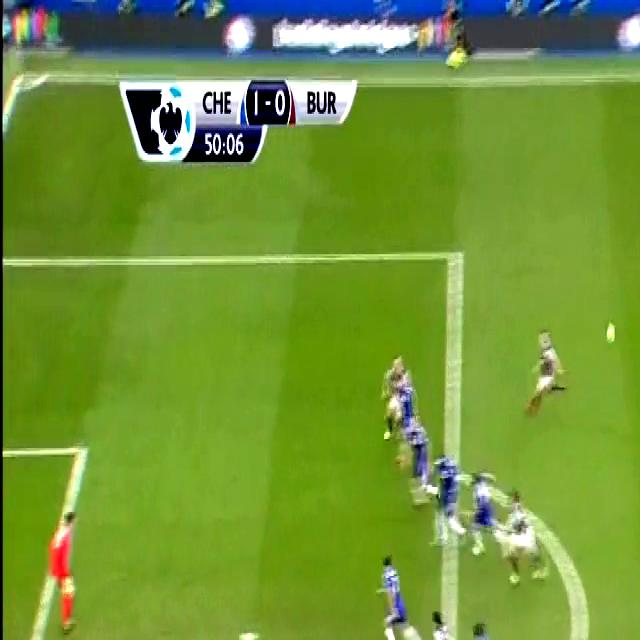ball: (602, 318, 620, 351)
goalkeeper: (42, 471, 83, 640)
soccer-player: (517, 313, 575, 424), (497, 484, 545, 598), (371, 537, 421, 640), (377, 338, 418, 458), (428, 439, 466, 558), (406, 416, 443, 530), (392, 372, 423, 482), (464, 464, 498, 564), (459, 611, 507, 640), (429, 602, 458, 640)
